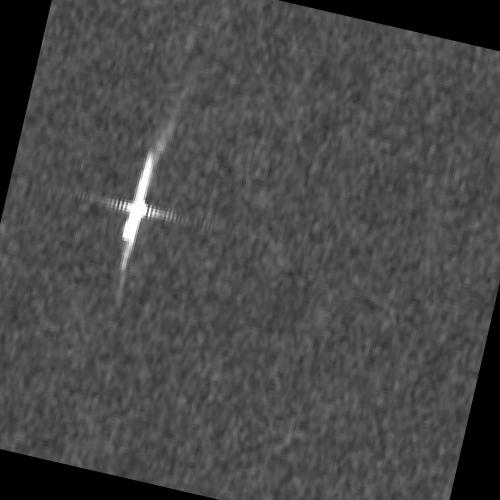ship: (121, 147, 155, 244)
